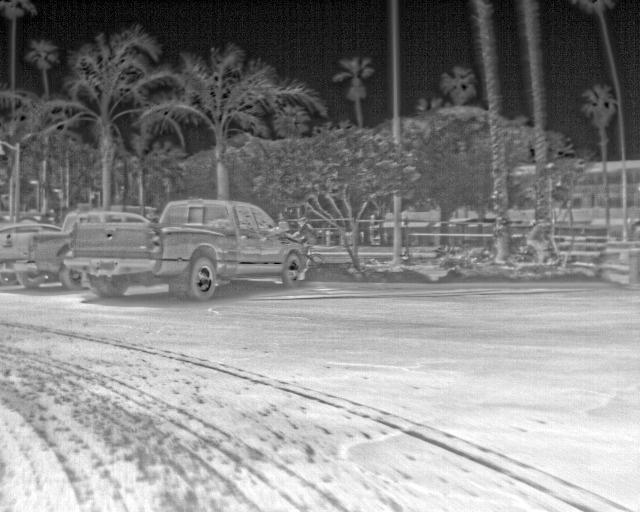bicycle: (64, 196, 311, 305), (0, 208, 149, 294)
